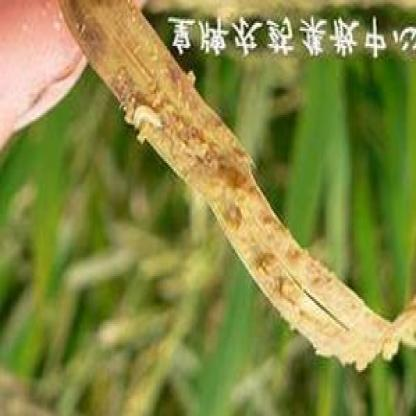whorl-maggot: (127, 98, 167, 138)
